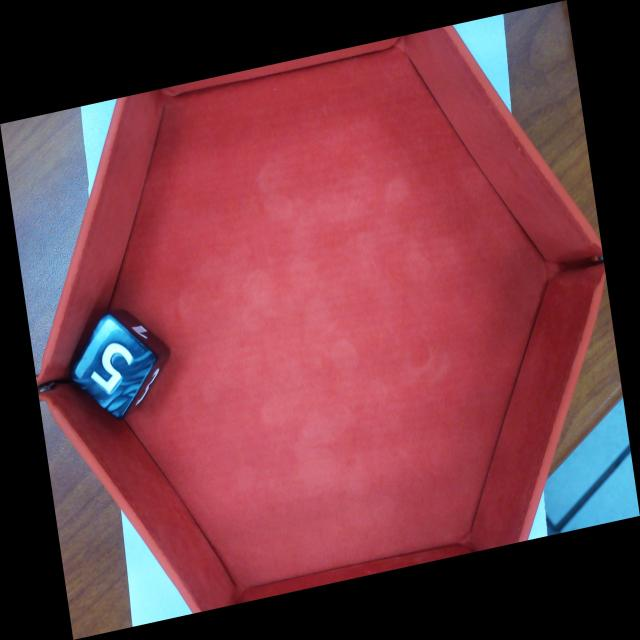dice: (73, 312, 159, 421)
